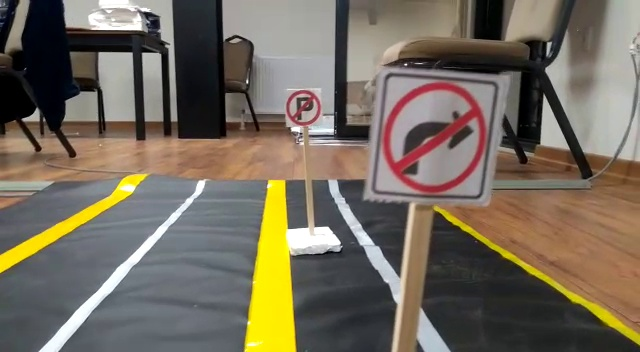park_yapilmaz: (285, 89, 322, 123)
saga_donulmez: (377, 77, 487, 194)
